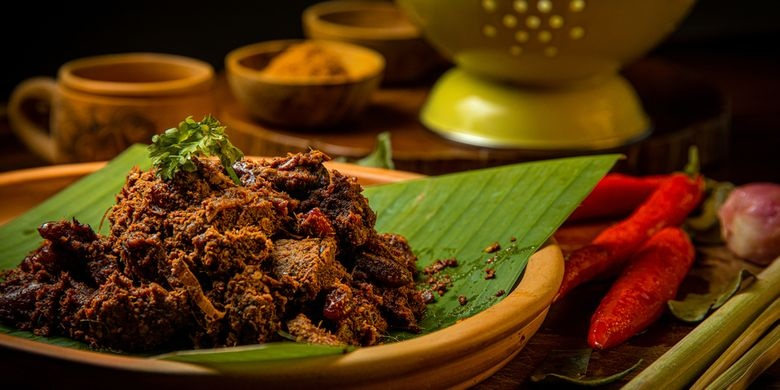rendang: (1, 176, 435, 358)
